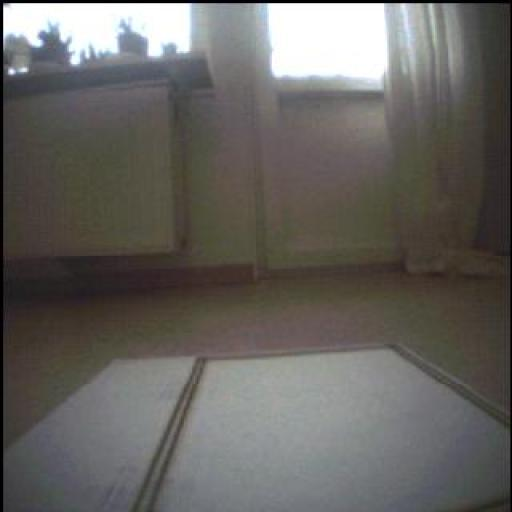Pad: (1, 341, 512, 512)
